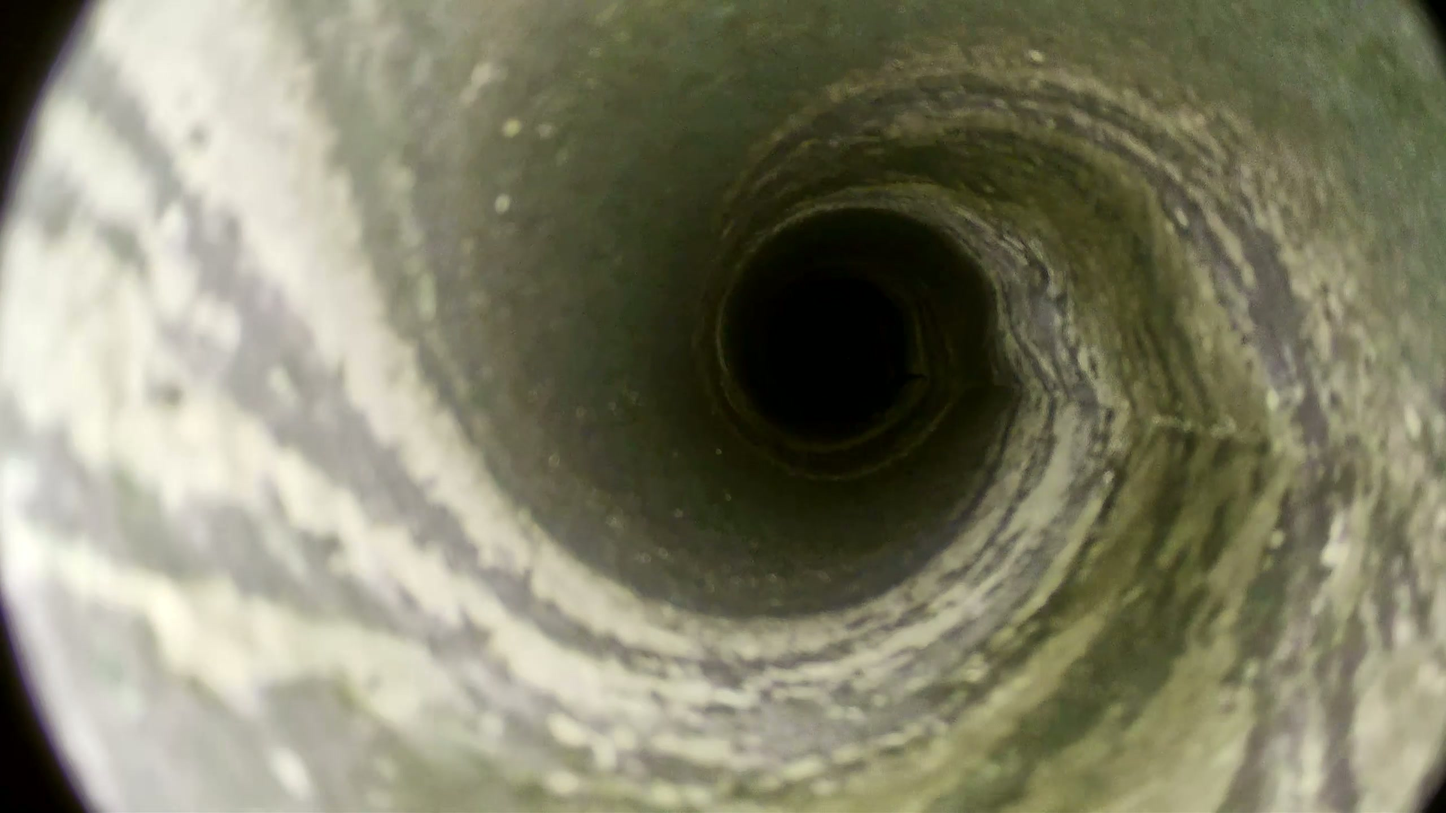hole: (769, 282, 903, 418)
